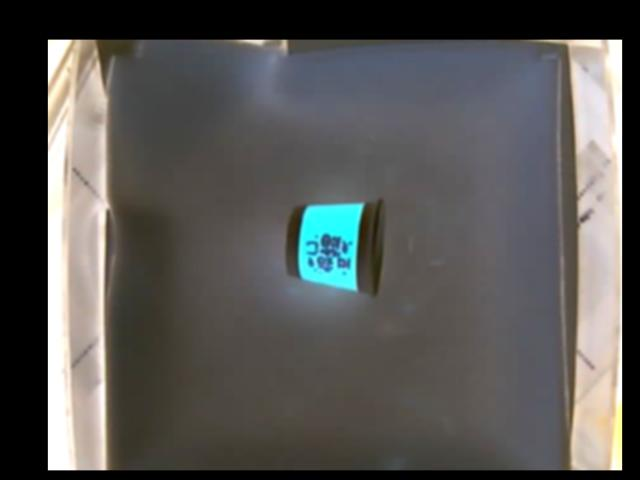Cup: (282, 199, 387, 292)
